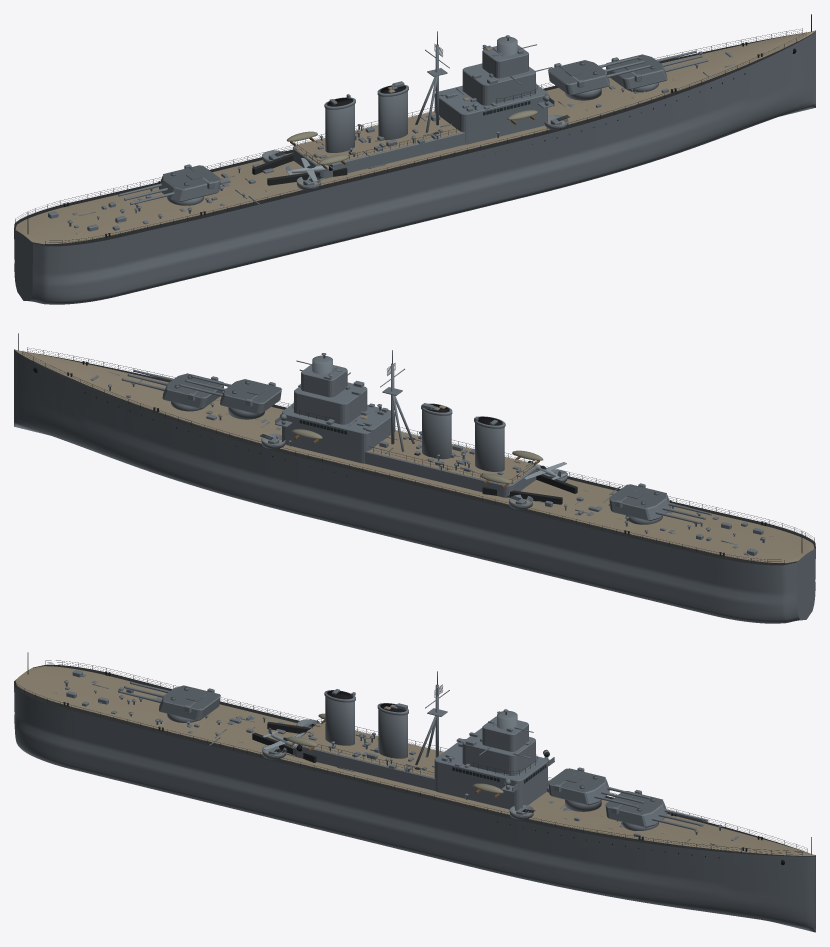
Rendered from new_orleans.glb.
3 renders of one model, top to bottom at view 1: azimuth 30°, elevation 25°; view 2: azimuth 150°, elevation 25°; view 3: azimuth 330°, elevation 25°, orthographic.
Parts seen in each view (by area): view 1: new_orleans, T_2_malla, T_1_malla, T_0_malla; view 2: new_orleans, T_2_malla, T_1_malla, T_0_malla; view 3: new_orleans, T_1_malla, T_2_malla, T_0_malla.
Part boxes in pixels (box(x1,y1,x2,y2)): new_orleans: box(14, 14, 815, 304); T_2_malla: box(159, 164, 220, 201); T_1_malla: box(548, 60, 609, 95); T_0_malla: box(606, 54, 667, 89); new_orleans: box(14, 333, 815, 623); T_2_malla: box(609, 483, 670, 520); T_1_malla: box(220, 379, 281, 414); T_0_malla: box(162, 373, 223, 408); new_orleans: box(14, 652, 815, 932); T_1_malla: box(548, 767, 609, 805); T_2_malla: box(159, 685, 220, 720); T_0_malla: box(605, 790, 667, 827).
Size of the model in its own units: 179 by 36.5 by 19.56.
